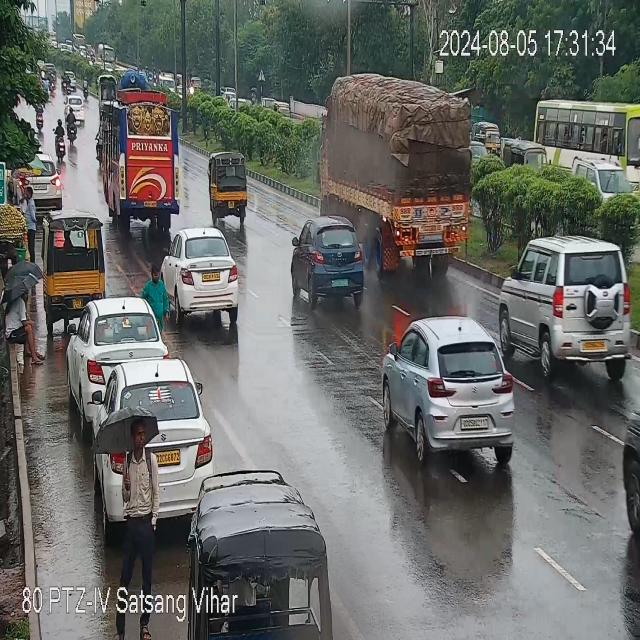2-wheelers: (55, 117, 65, 165), (67, 106, 77, 144), (36, 103, 43, 130), (62, 73, 70, 94), (83, 77, 88, 100)
auto: (239, 457, 336, 640), (42, 212, 106, 320), (208, 156, 250, 222), (477, 120, 499, 160)
bus: (101, 84, 188, 234), (537, 102, 640, 195)
car: (382, 317, 518, 471), (99, 361, 213, 537), (498, 228, 635, 374), (67, 297, 161, 398), (160, 223, 238, 322), (291, 217, 369, 310), (14, 153, 66, 209), (74, 95, 85, 125)
pedestrian: (105, 411, 160, 512), (6, 288, 40, 371), (149, 261, 166, 318), (25, 186, 38, 259)
truck: (321, 70, 485, 283)
